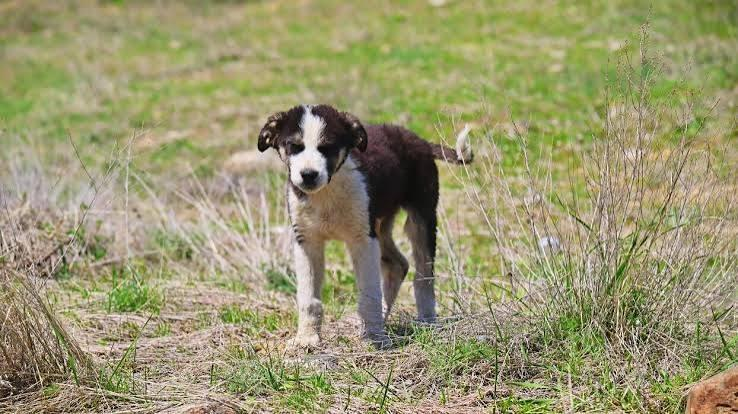puppy-dog: (258, 101, 474, 349)
